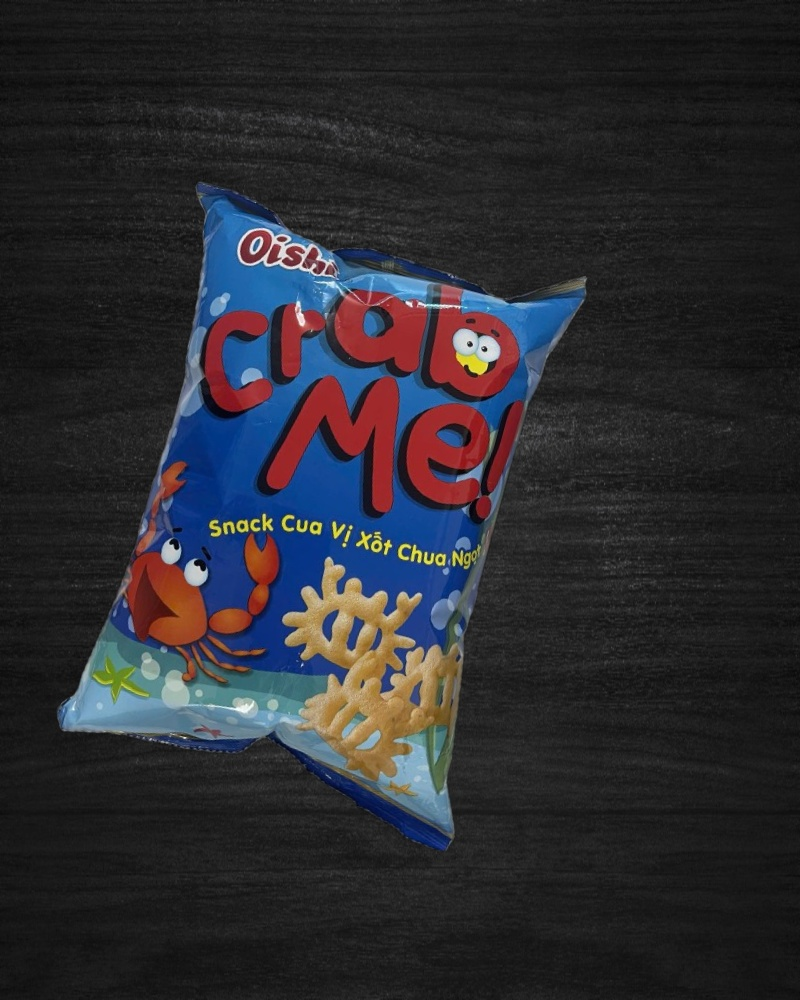Snack cua: (48, 174, 603, 848)
